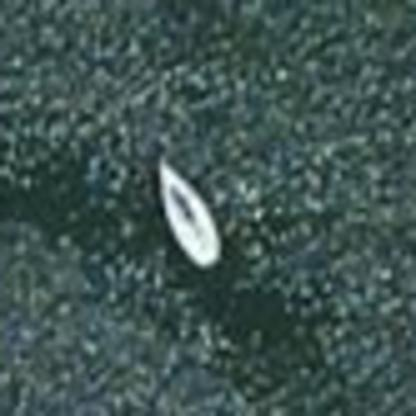ship: (142, 141, 233, 279)
